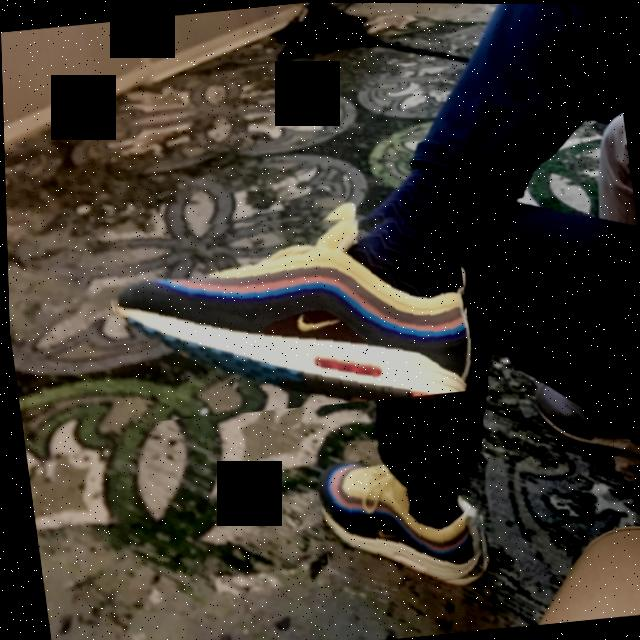shoe: (97, 191, 476, 426), (311, 448, 491, 598)
